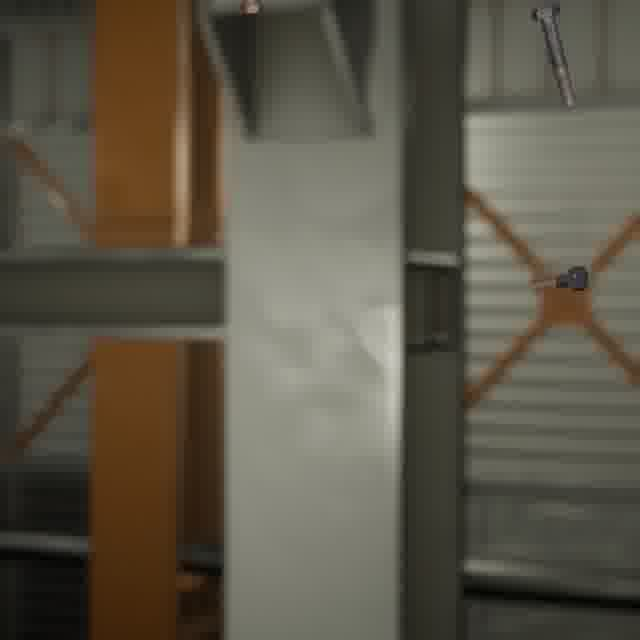bolt: (527, 0, 580, 112), (525, 260, 593, 296)
